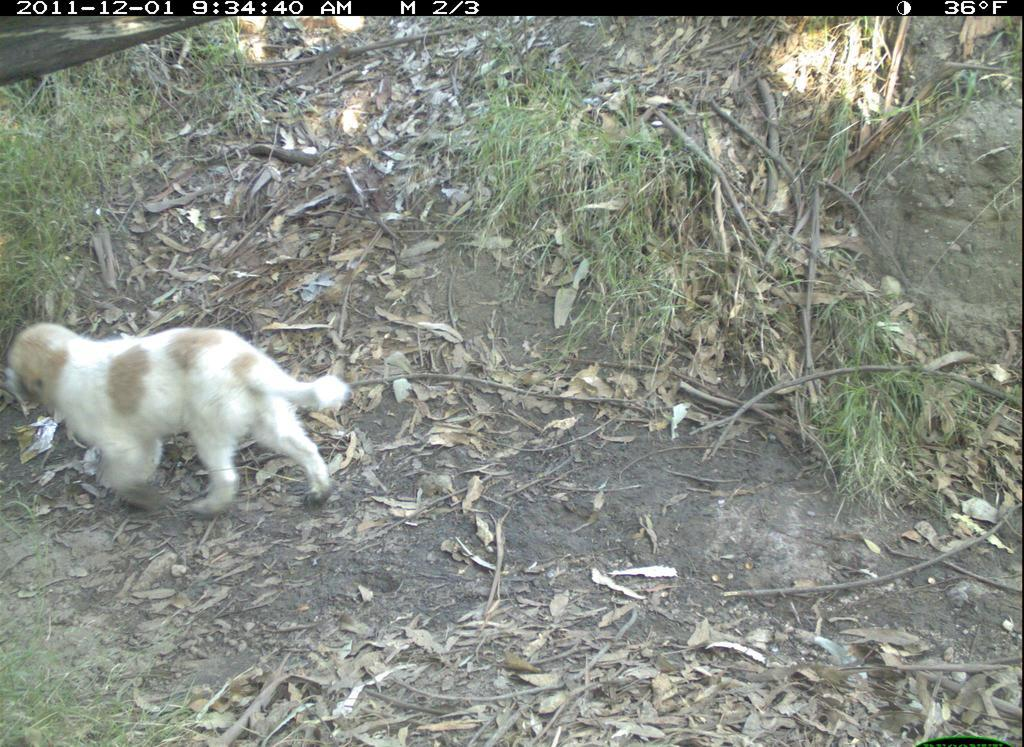dog: (6, 315, 371, 526)
